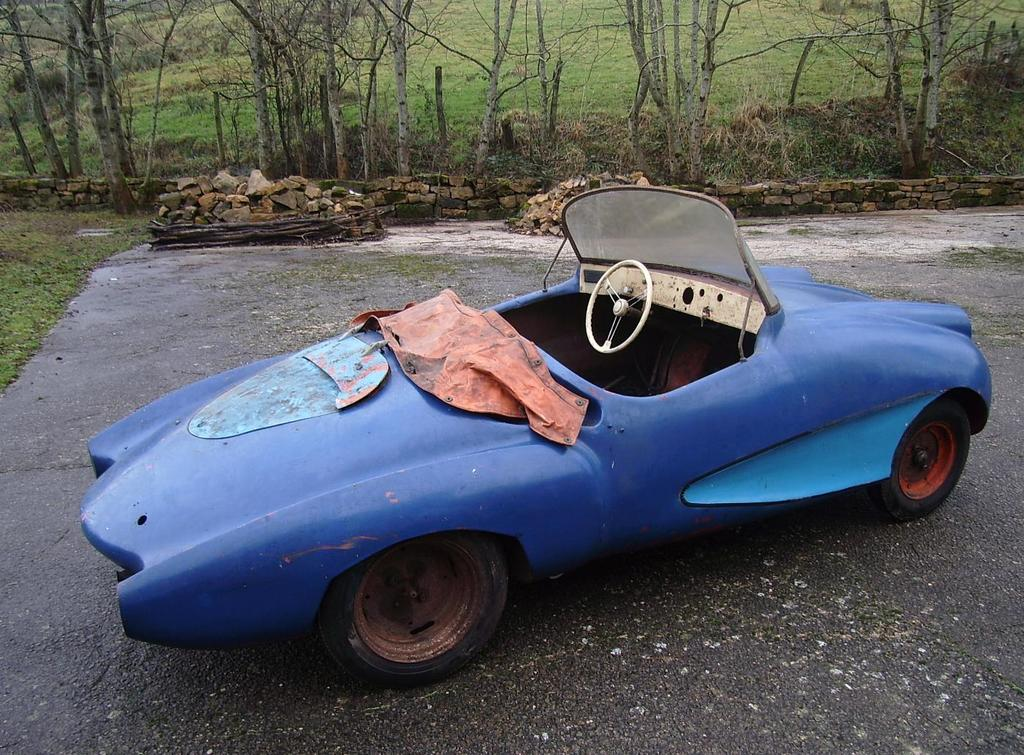Tree: (0, 0, 1024, 215)
